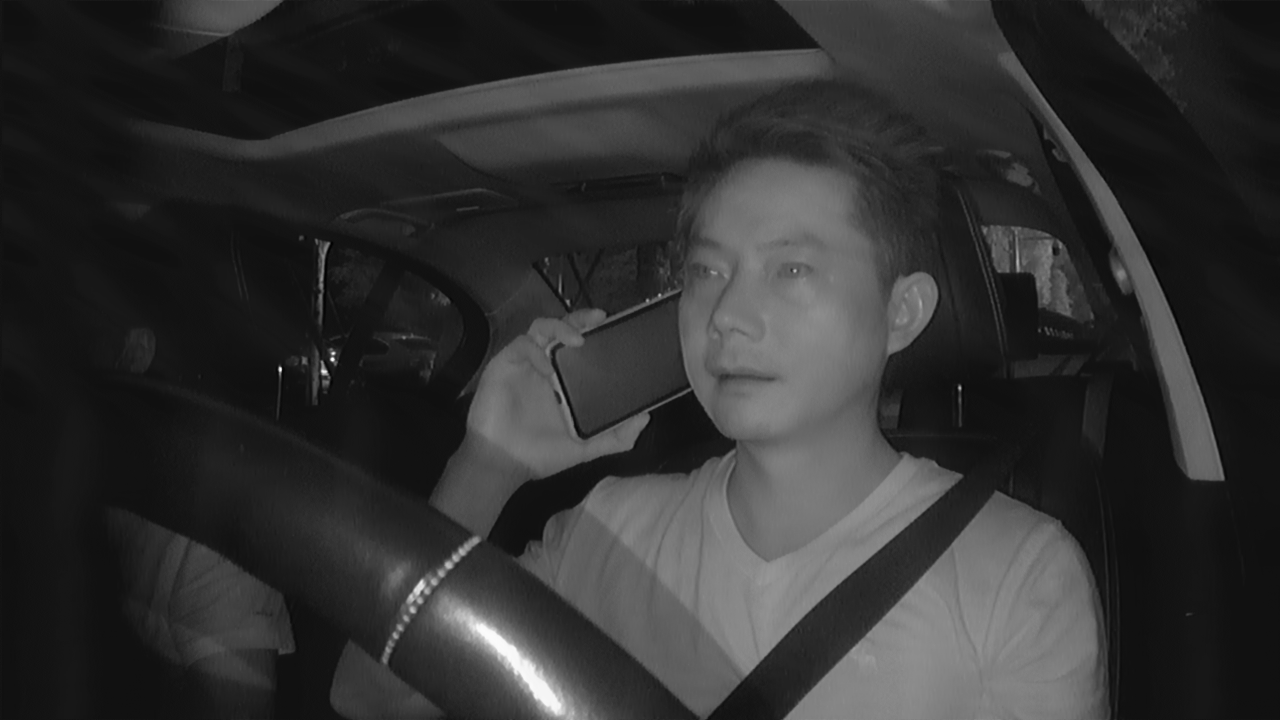hand: (459, 304, 603, 493)
